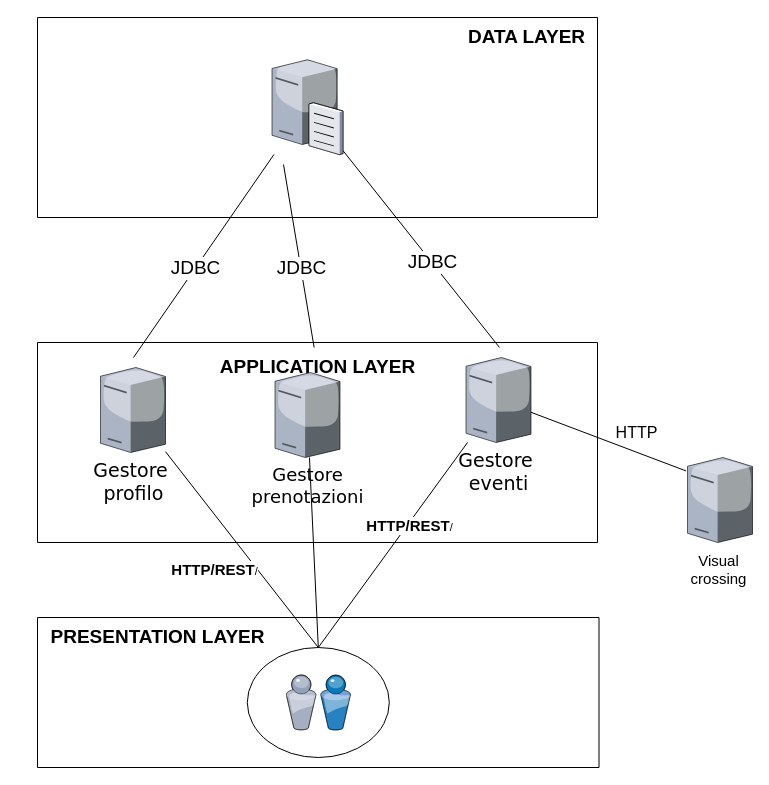
This 769x785 diagram has some shape labels left out. The centre of each missing label's shape, as x and y in pixels:
DataBase: point 307,105
Users: point 318,702
